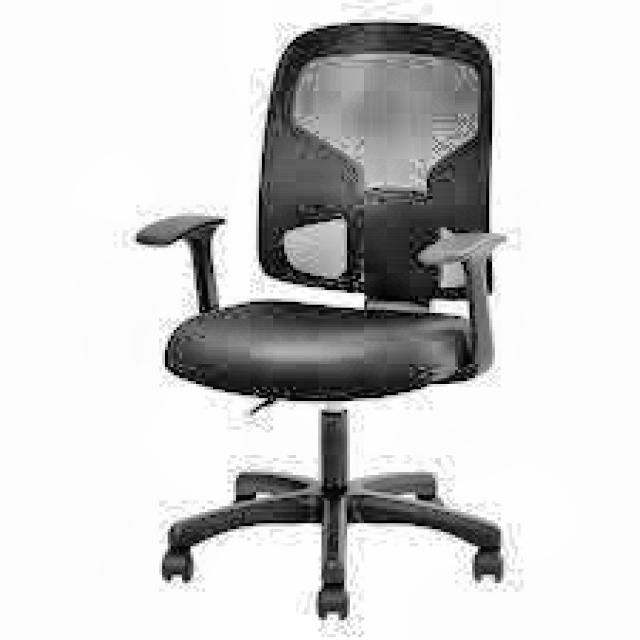cadeira: (134, 12, 508, 624)
